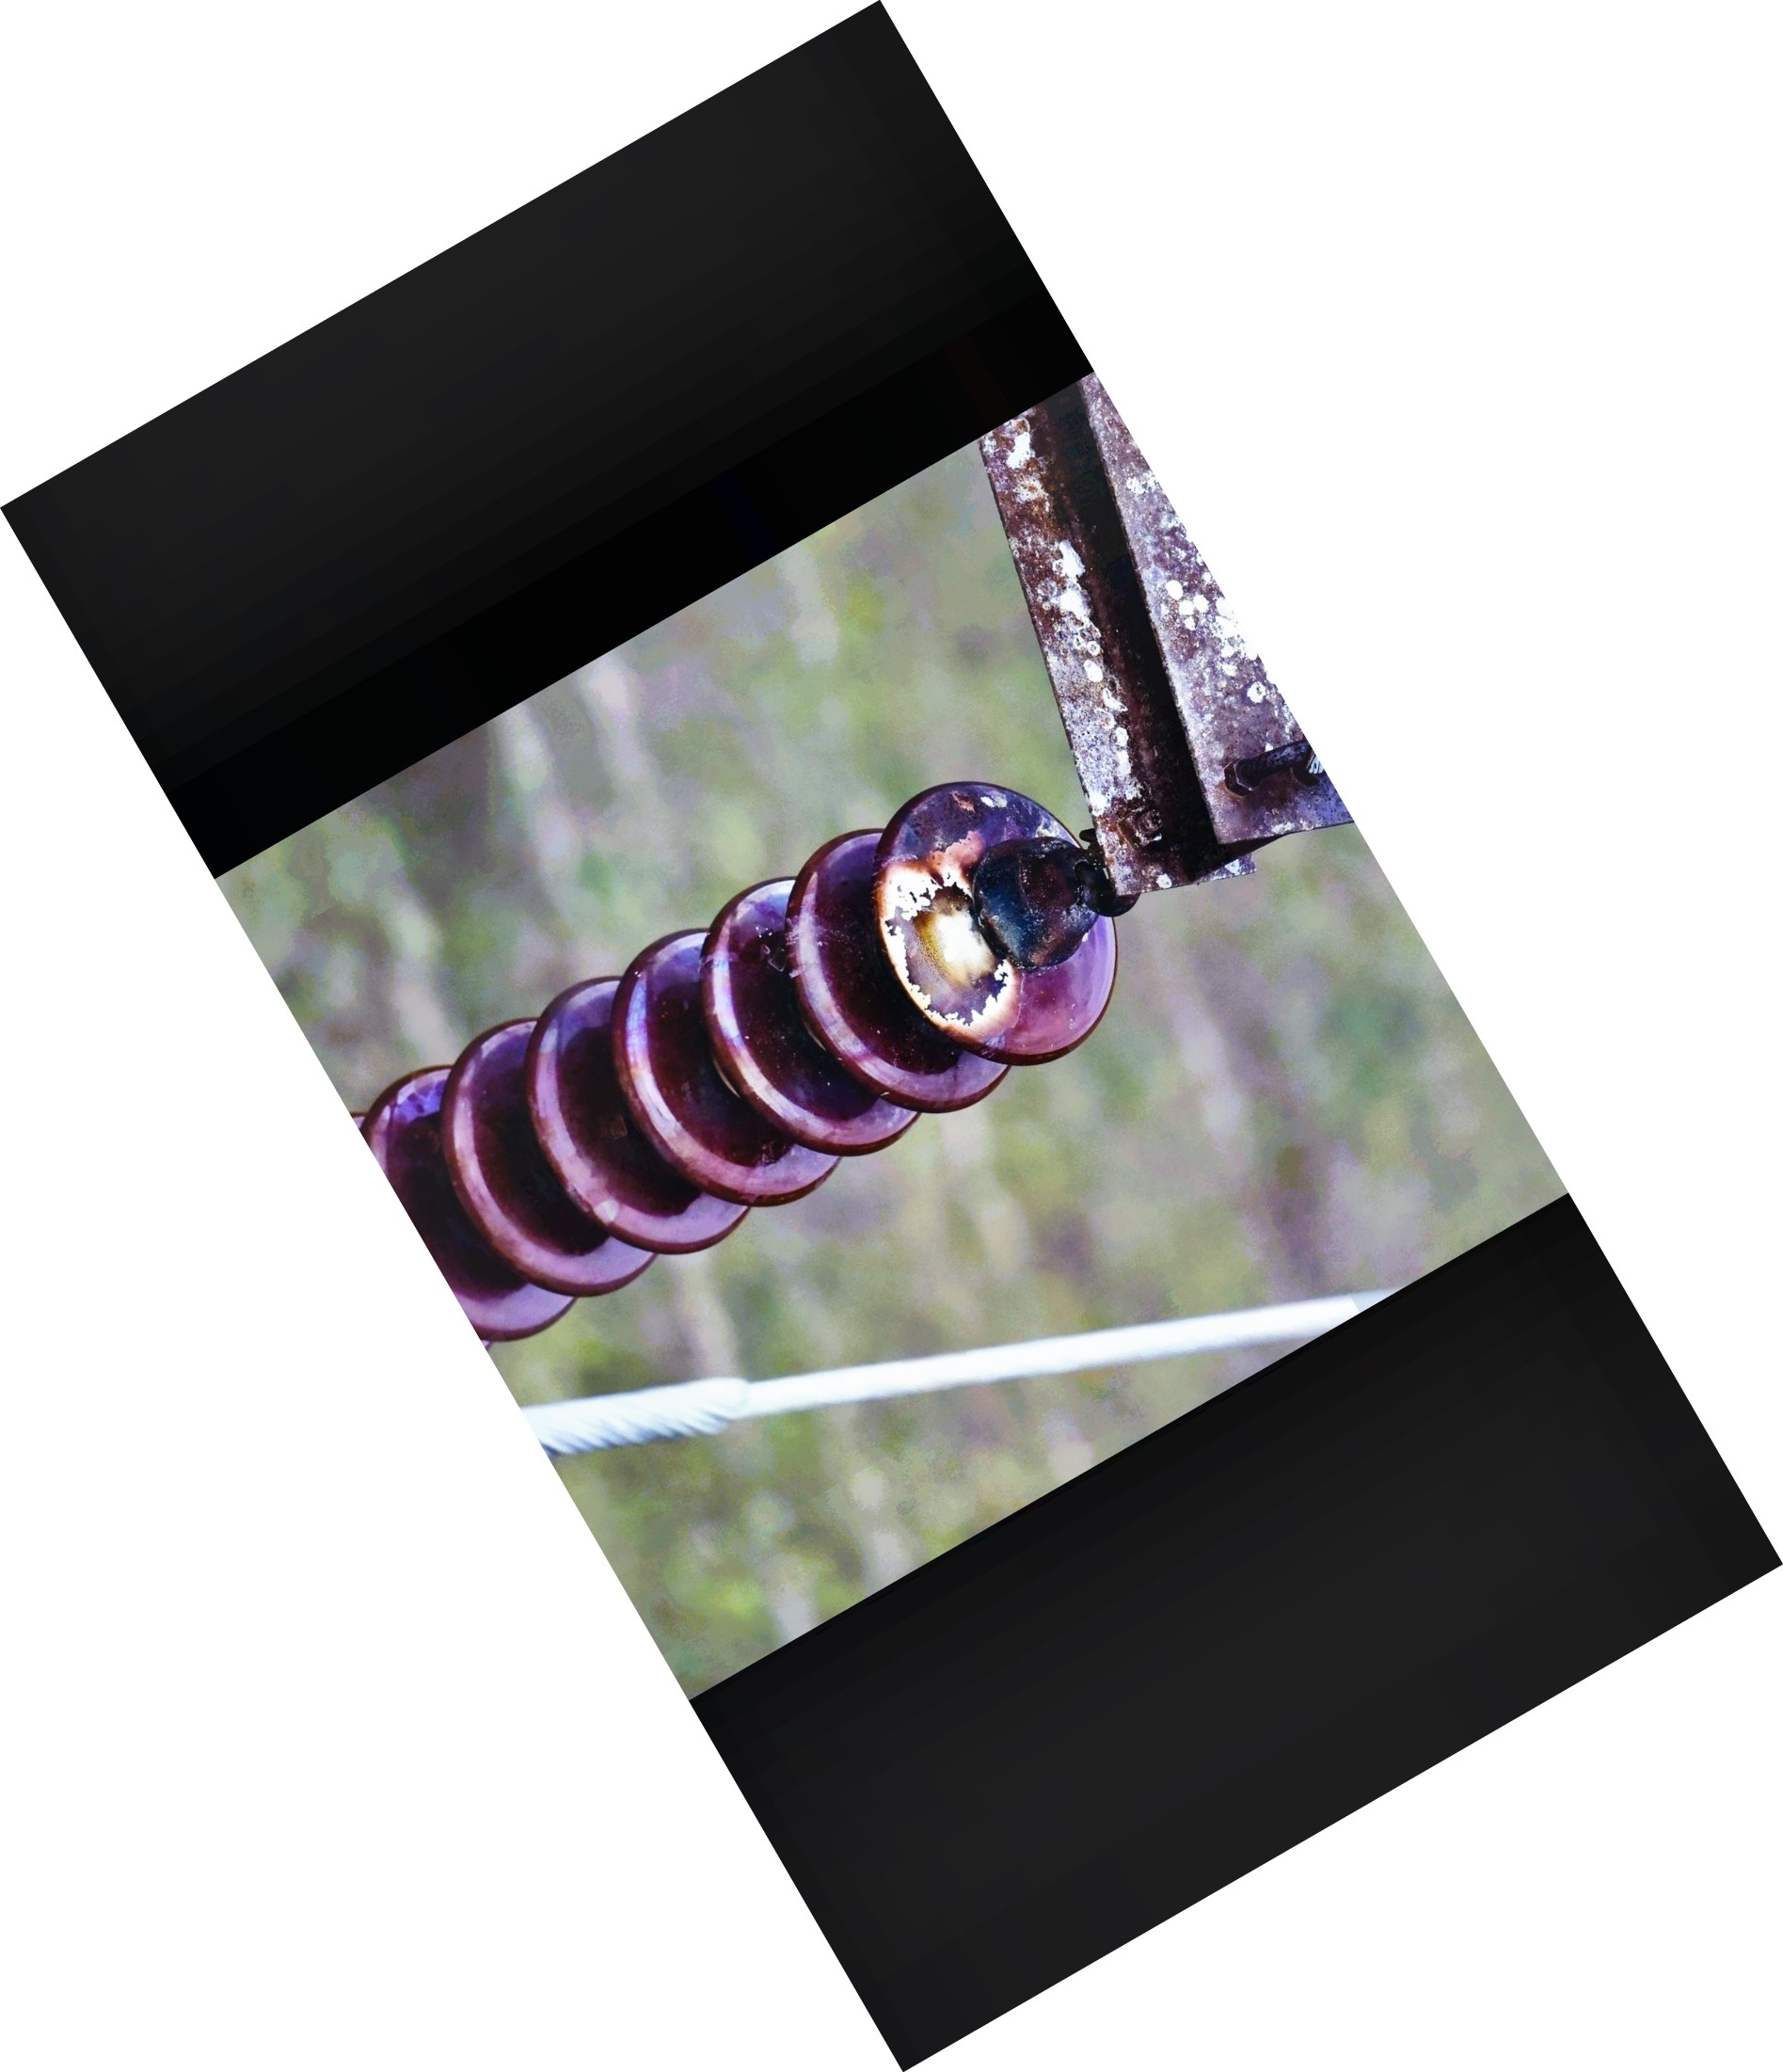Insulator flashover: (855, 763, 1140, 1080)
